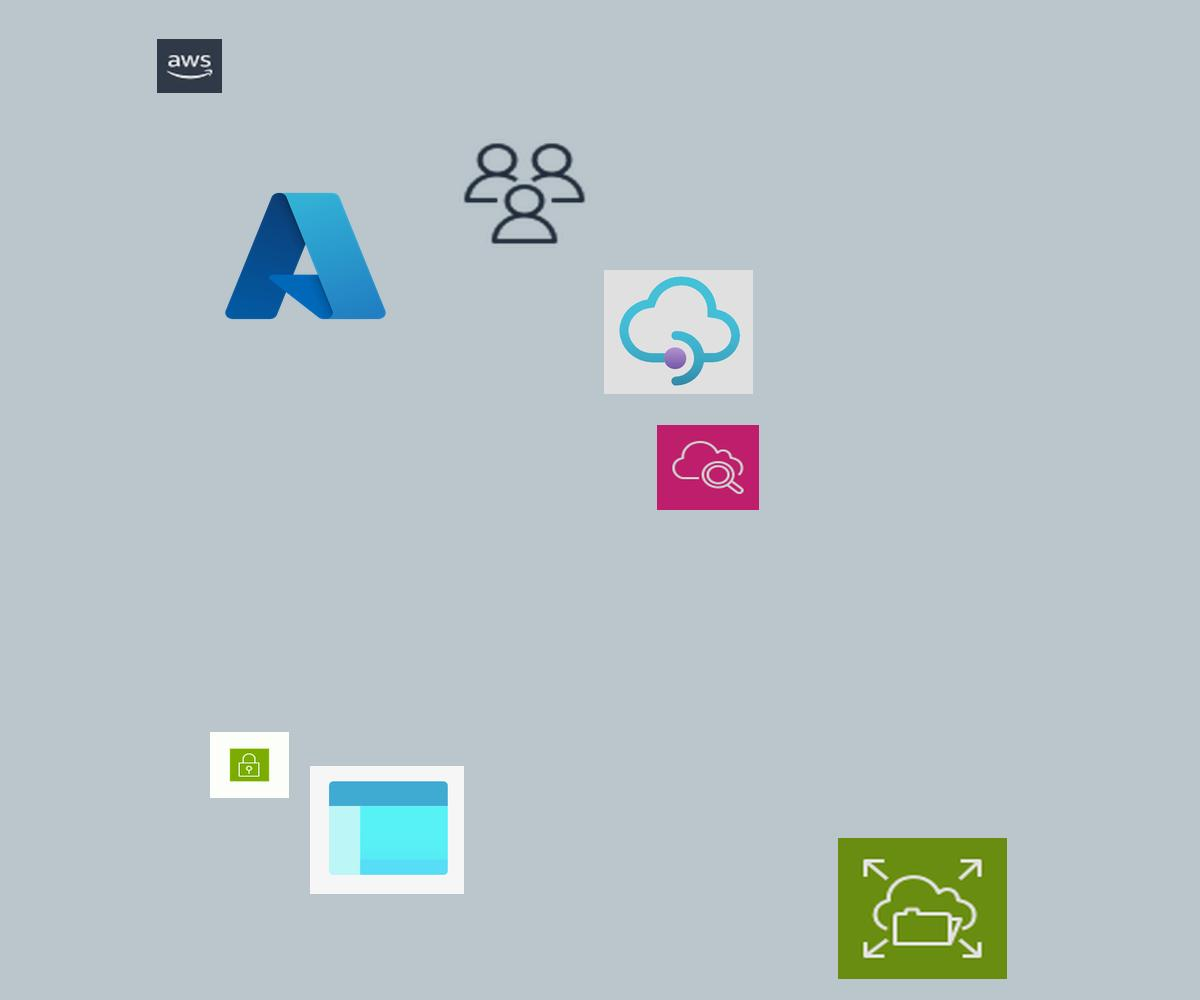AWS-Cloud-logo: (157, 39, 222, 93)
AWS-CloudWatch: (657, 425, 759, 510)
AWS-EFS: (838, 838, 1007, 979)
AWS-Public-subnet: (210, 732, 289, 798)
AWS-Res_Users: (459, 139, 590, 248)
Azure_api_gateway: (604, 270, 753, 394)
Azure_management-portal: (310, 766, 464, 894)
Azure_services: (218, 183, 393, 329)
